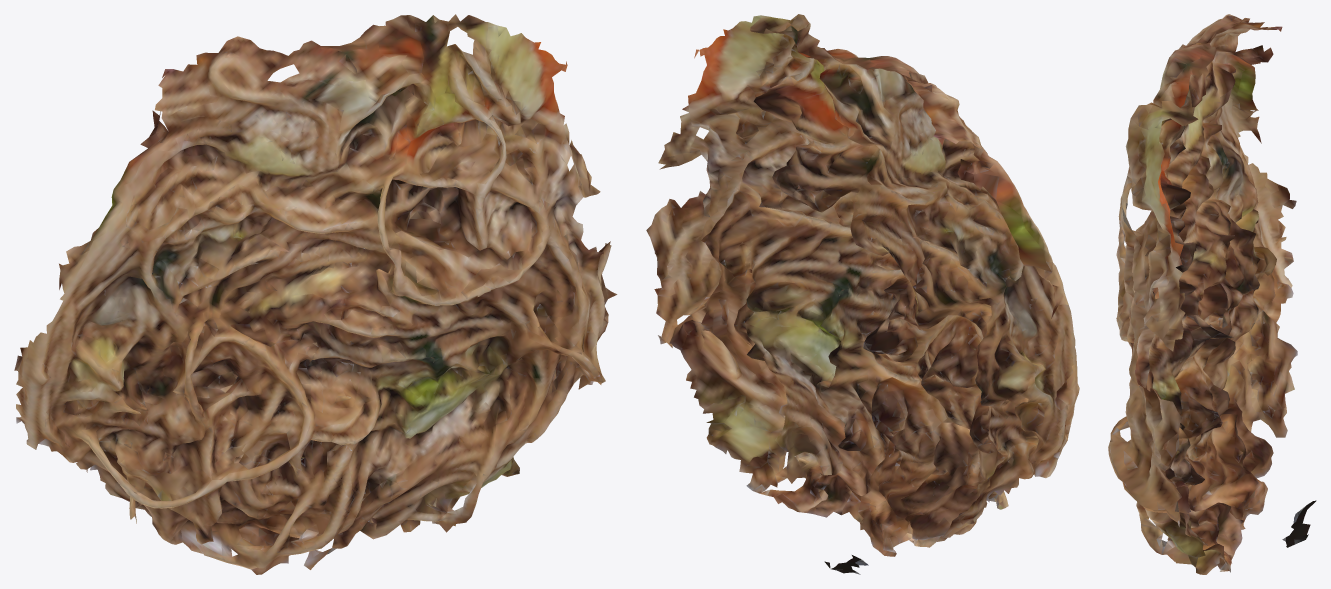
File: noodles.glb
The picture shows the model from 3 angles, left to right: view 1: azimuth 30°, elevation 25°; view 2: azimuth 150°, elevation 25°; view 3: azimuth 270°, elevation 25°; orthographic projection. The views are drawn at different scales.
Visible parts, largest first — view 1: Stereo textured mesh; view 2: Stereo textured mesh; view 3: Stereo textured mesh.
Boxes of the visible parts, x1,y1,x2,y2 form: Stereo textured mesh: (14, 14, 617, 574); Stereo textured mesh: (646, 14, 1079, 574); Stereo textured mesh: (1108, 14, 1316, 574).
Bounding box in the file's own units: 8.99 × 8.98 × 3.31.
1 material, 1 textured.
